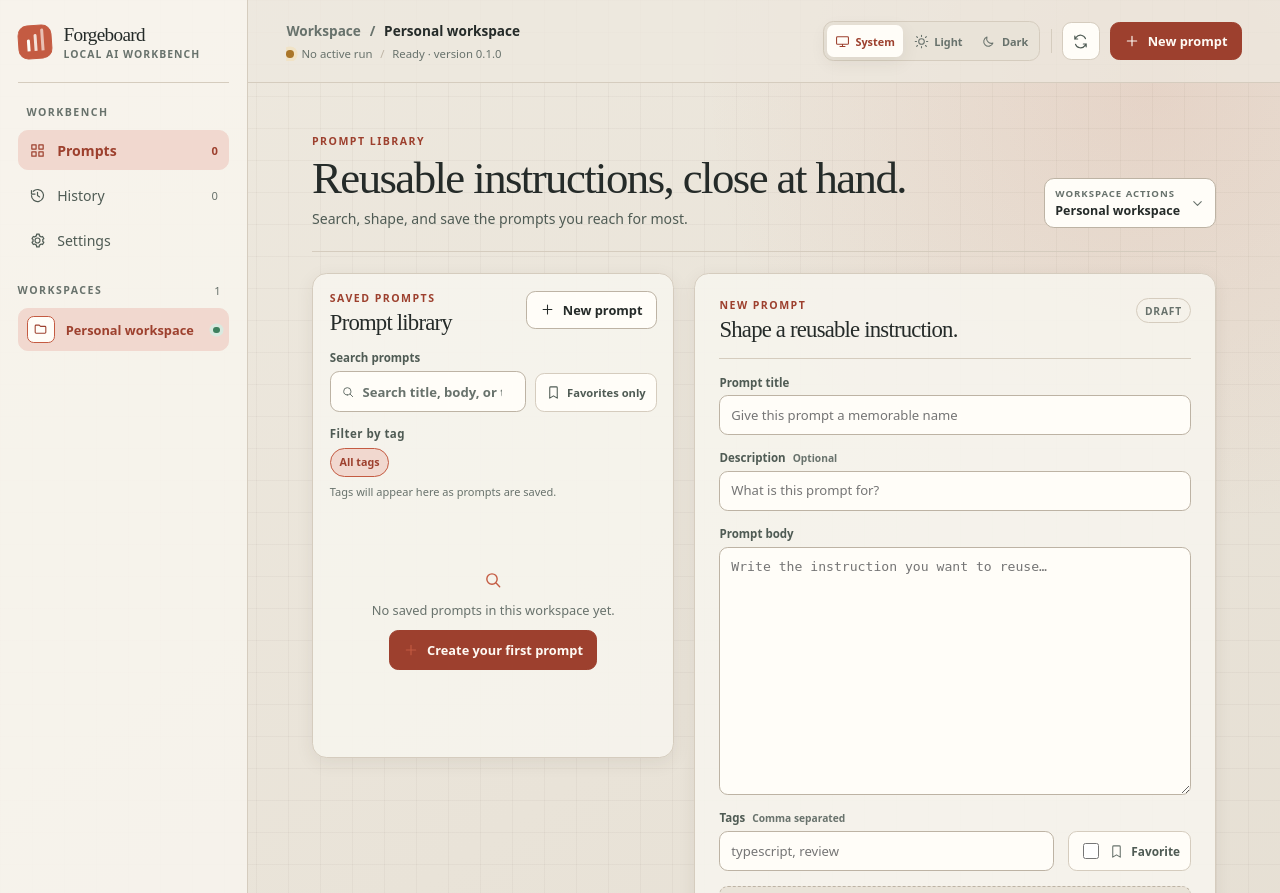
workspace transfers › keeps the Markdown export unavailable until a prompt is selected
Expected: the heading "Reusable instructions, close at hand." is shown, [312, 156, 906, 201]
Step 1. Click the button "Settings" → (124, 240), box [18, 220, 229, 261]
(page scrolled)
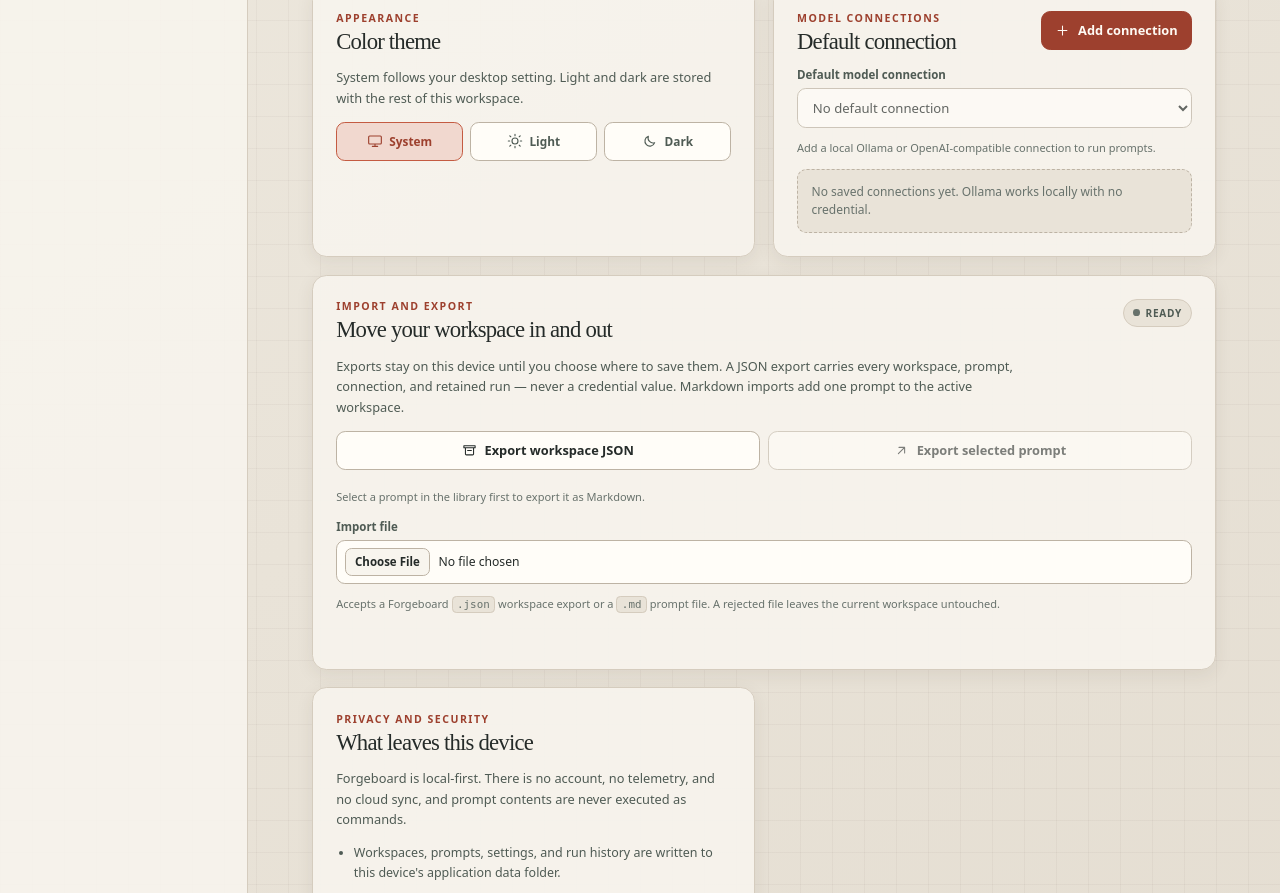
Result: the button "Export selected prompt" is disabled at [768, 431, 1192, 470]
